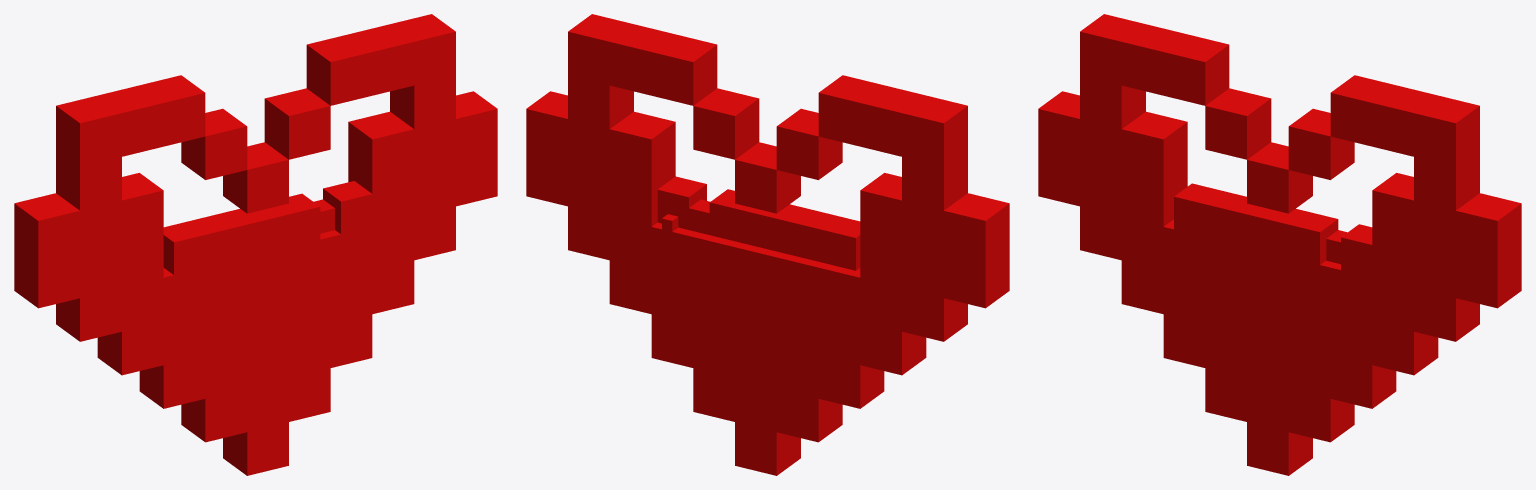
The model's file is AbelVie.glb.
3 renders of one model, left to right at view 1: azimuth 30°, elevation 25°; view 2: azimuth 150°, elevation 25°; view 3: azimuth 330°, elevation 25°, orthographic.
Parts seen in each view (by area): view 1: ObjObject.001; view 2: ObjObject.001; view 3: ObjObject.001.
Part boxes in pixels (x1,y1,x2,y2): ObjObject.001: (14,14,497,475); ObjObject.001: (526,14,1009,475); ObjObject.001: (1038,14,1521,475).
Bounding box in the file's own units: 4.4 × 3.6 × 0.4.
Materials: 1 (1 with a texture image).
